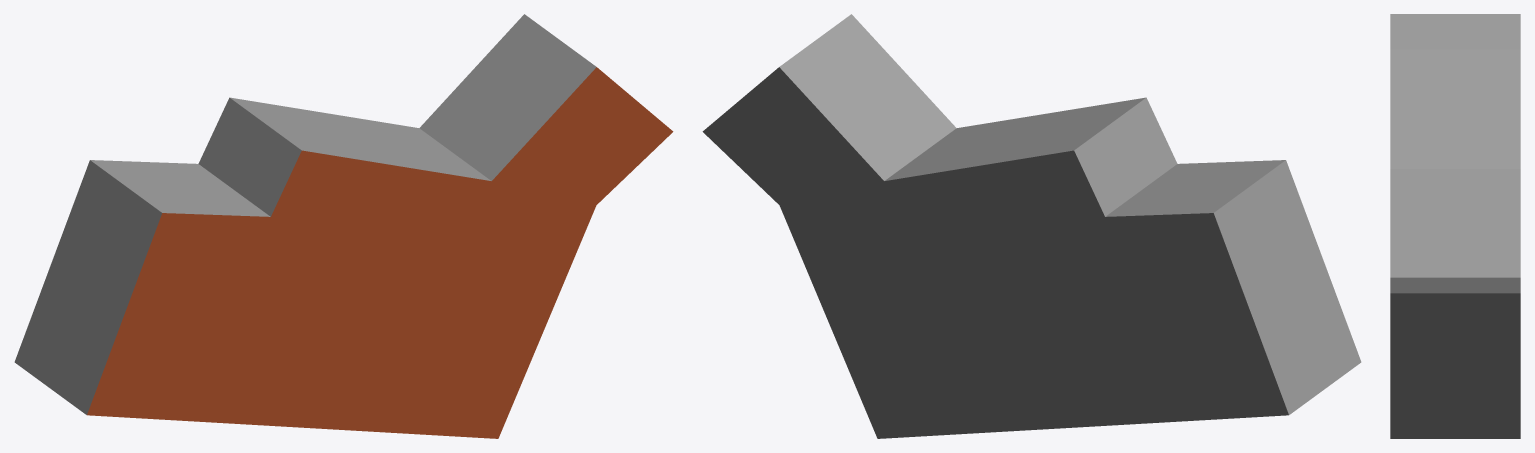
The model's file is construction_5608_assumed_A_Casa_h6m.obj.
3 views of the same model, side by side, from view 1: azimuth 30°, elevation 25°; view 2: azimuth 150°, elevation 25°; view 3: azimuth 270°, elevation 25° (orthographic). The views are drawn at different scales.
Visible parts, largest first — view 1: construction_5608_assumed_A_Casa; view 2: construction_5608_assumed_A_Casa; view 3: construction_5608_assumed_A_Casa.
Part boxes in pixels (x1=…): construction_5608_assumed_A_Casa: x1=14, y1=14, x2=673, y2=438; construction_5608_assumed_A_Casa: x1=702, y1=14, x2=1361, y2=438; construction_5608_assumed_A_Casa: x1=1390, y1=14, x2=1520, y2=438.
Size of the model in its own units: 28.06 by 15.91 by 6.
